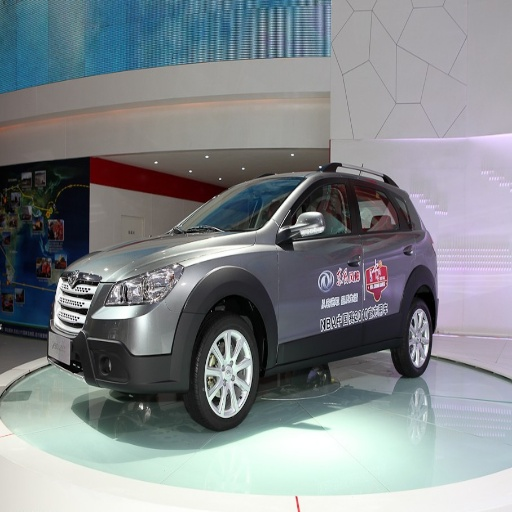back_glass: (99, 32, 186, 66)
front_bumper: (48, 272, 200, 392)
front_glass: (177, 179, 299, 232)
front_left_door: (280, 178, 363, 357)
